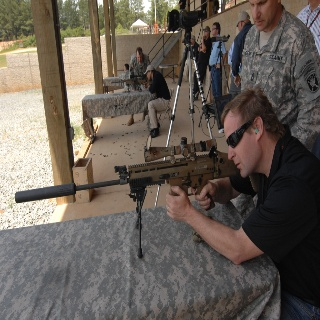rifle: (14, 136, 263, 204), (111, 72, 150, 87)
